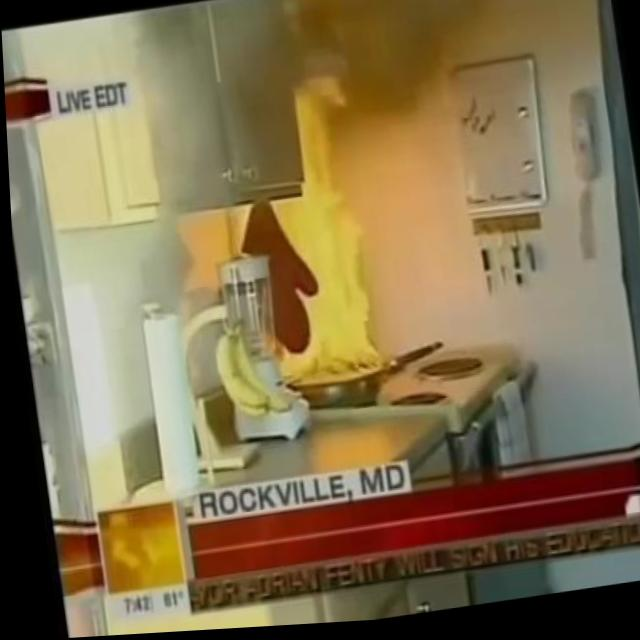fire: (214, 66, 395, 391)
